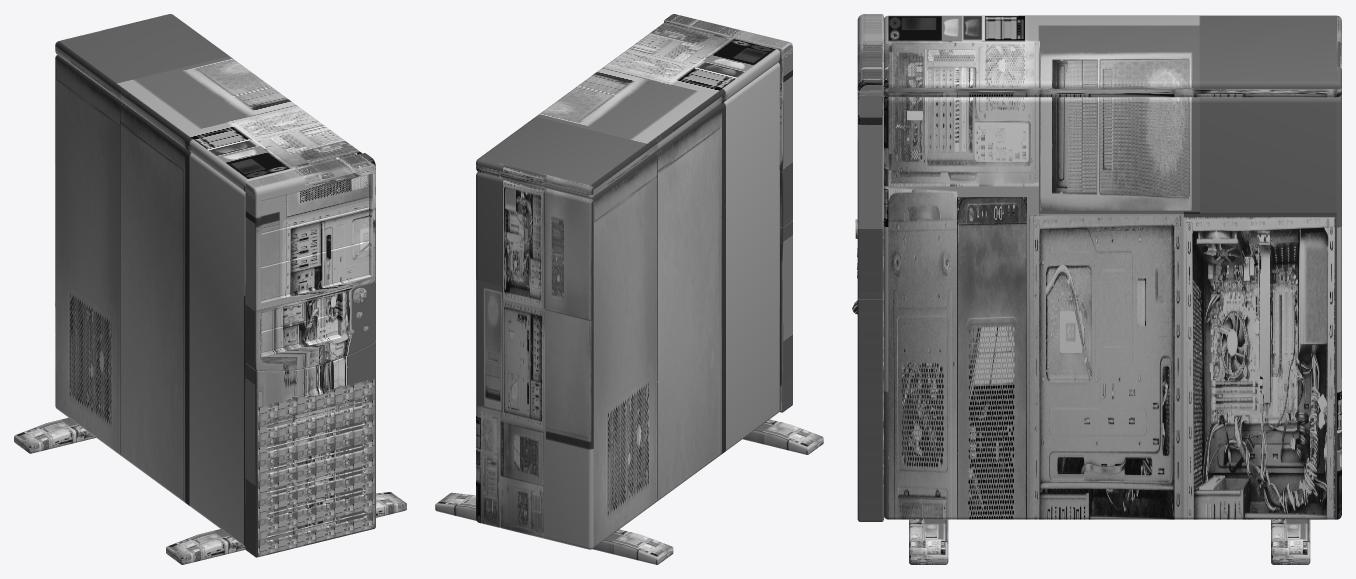
The model's file is desktop.obj.
3 views of the same model, side by side, from view 1: azimuth 30°, elevation 25°; view 2: azimuth 150°, elevation 25°; view 3: azimuth 270°, elevation 25° (orthographic). The views are drawn at different scales.
Parts seen in each view (by area): view 1: PF__DESKTOP_04_00, PF__DESKTOP_04_01; view 2: PF__DESKTOP_04_00, PF__DESKTOP_04_01; view 3: PF__DESKTOP_04_00, PF__DESKTOP_04_01.
Boxes of the visible parts, x1=… form: PF__DESKTOP_04_00: x1=14, y1=14, x2=406, y2=564; PF__DESKTOP_04_01: x1=245, y1=153, x2=375, y2=557; PF__DESKTOP_04_00: x1=435, y1=22, x2=823, y2=564; PF__DESKTOP_04_01: x1=664, y1=14, x2=792, y2=412; PF__DESKTOP_04_00: x1=855, y1=15, x2=1341, y2=564; PF__DESKTOP_04_01: x1=852, y1=14, x2=883, y2=521.
Bounding box in the file's own units: 12.02 × 19.26 × 18.93.
Materials: 1 (1 with a texture image).
